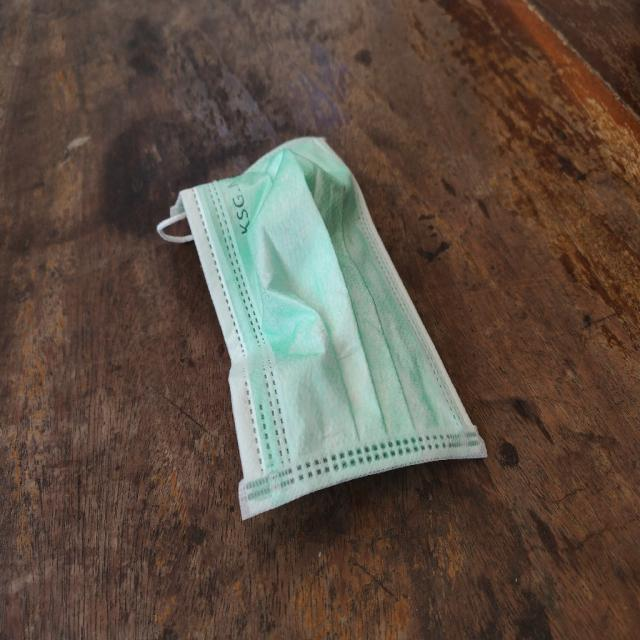non-organic waste: (162, 139, 489, 520)
